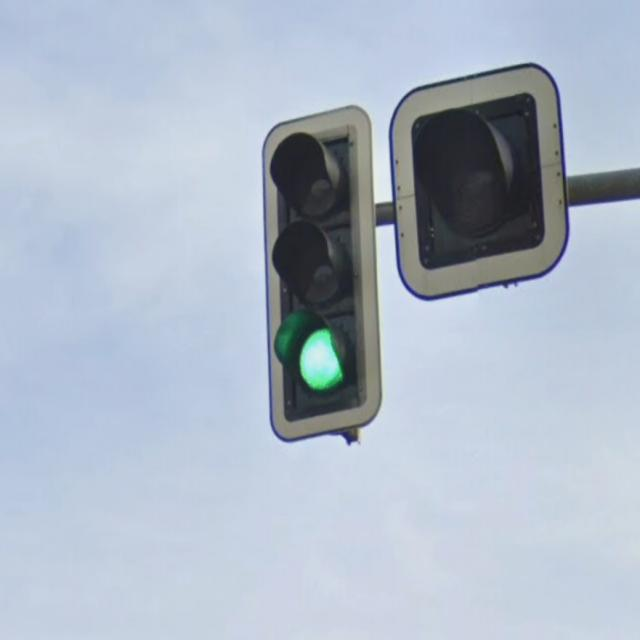green_light: (260, 105, 383, 442)
